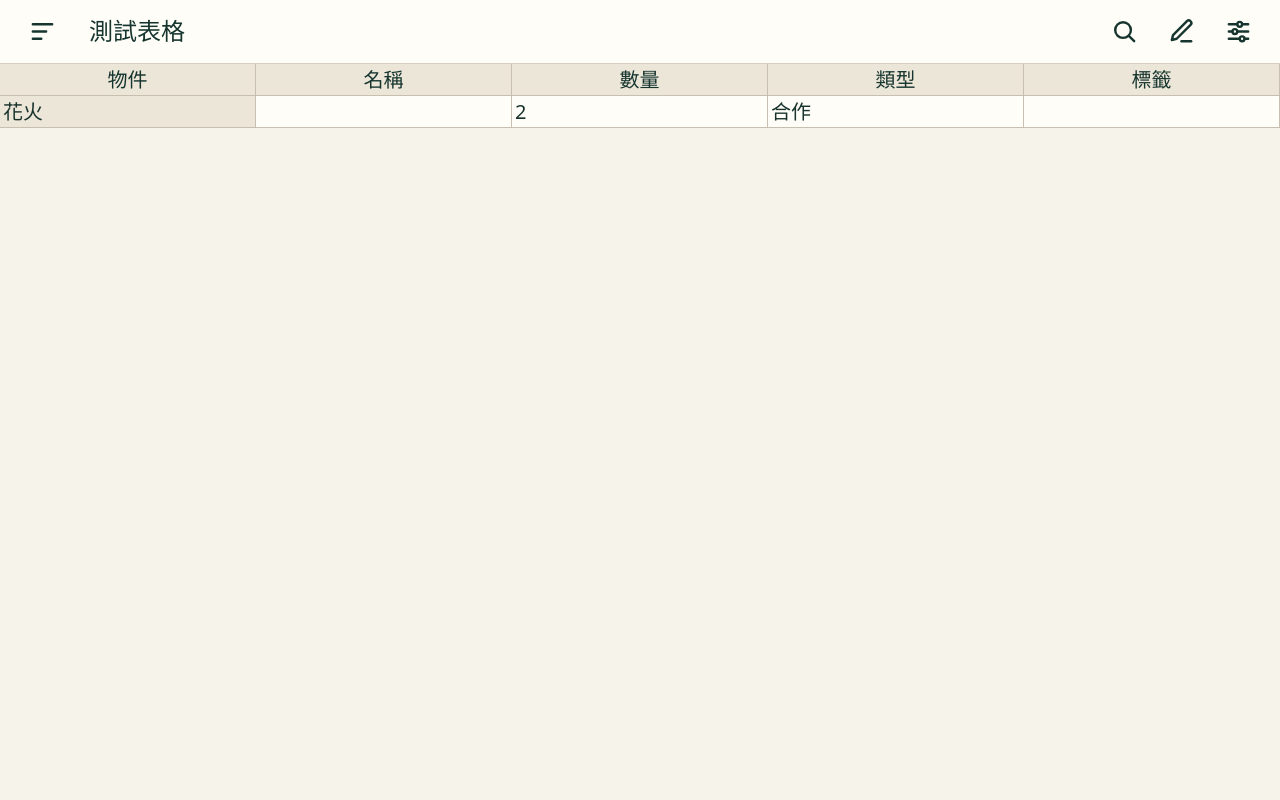
Scenario: WorkspacePage.navigation › edits the table name by clicking the displayed table title
Click the button with aria-label "重新命名表格". click: point(137, 32)
box: [79,8,195,56]
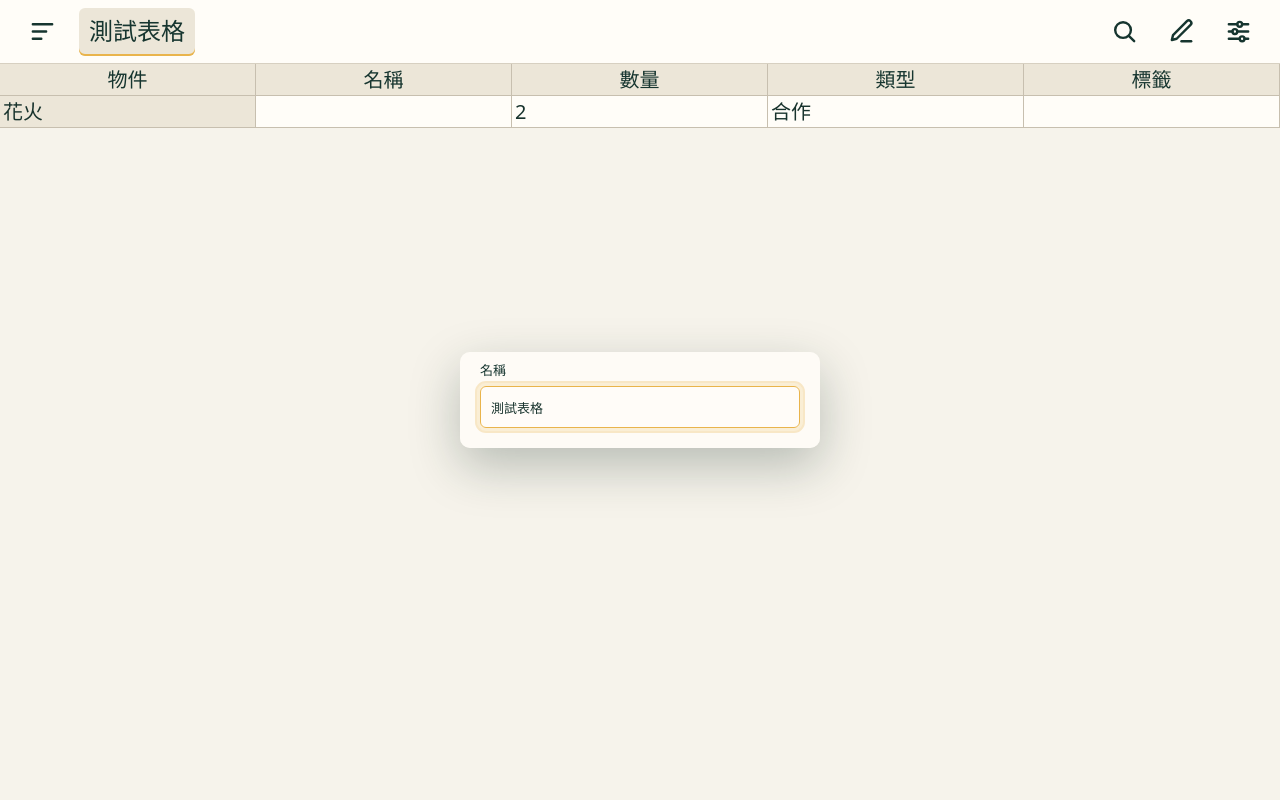
Replace the text in the field labelled "名稱" with "新表格名稱". click: point(640, 407)
box: [480,386,800,428]
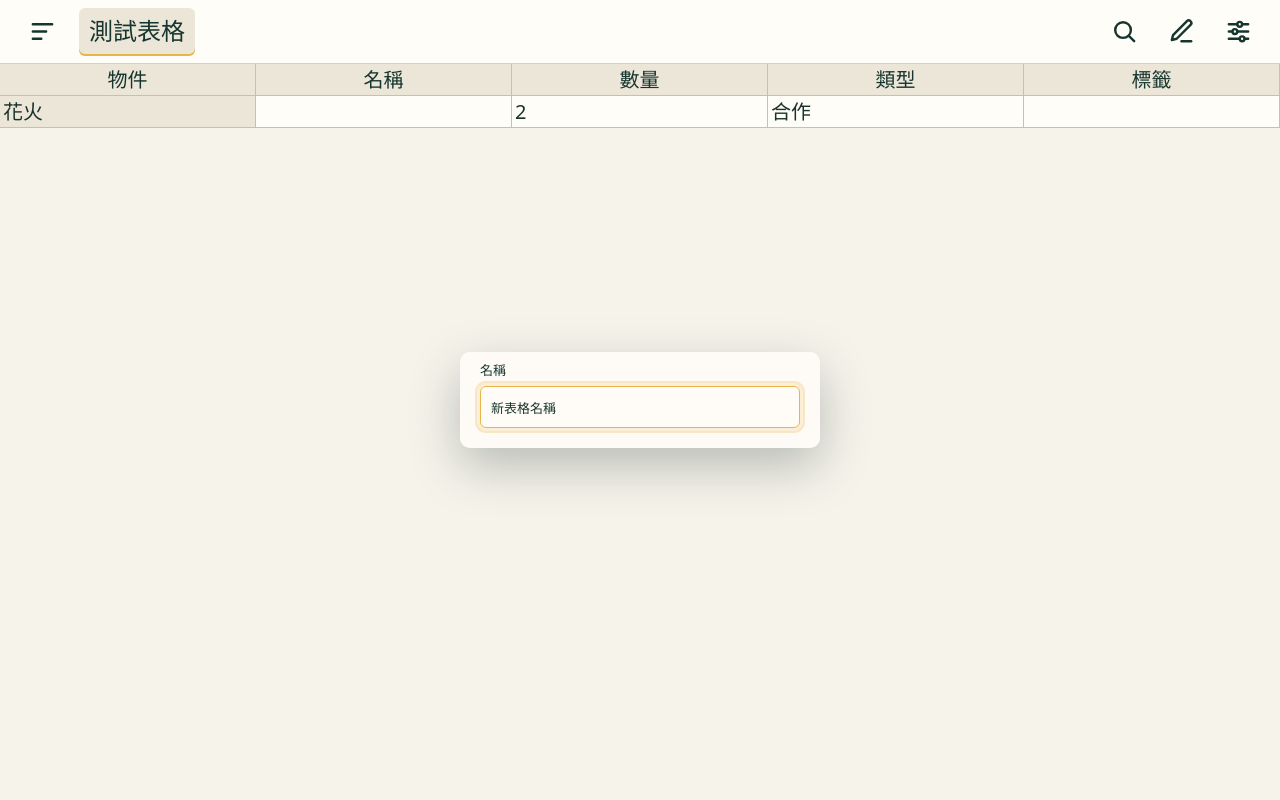
Click the element with class "workspace-name-dialog-overlay". click: point(640, 400)
box: [460,352,820,448]
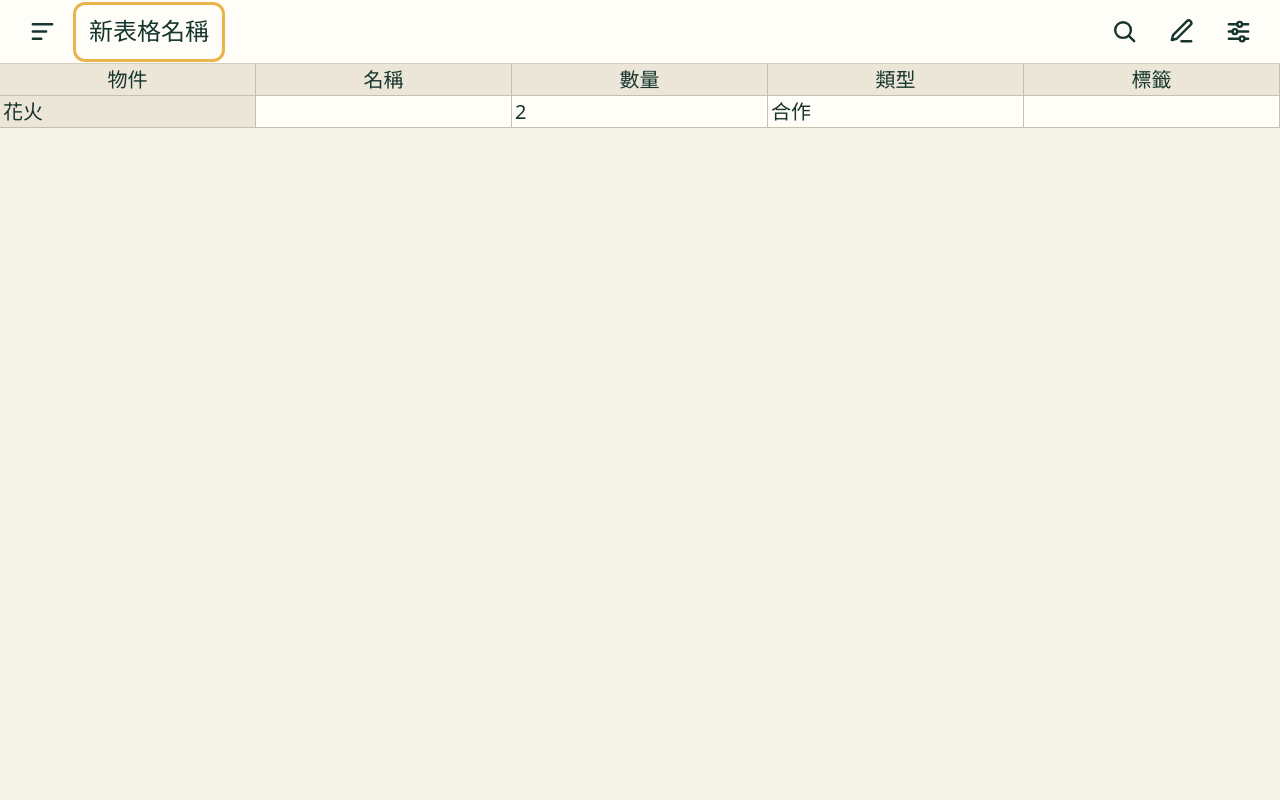
Expected: the text "新表格名稱" is shown, [89,17,209,46]
